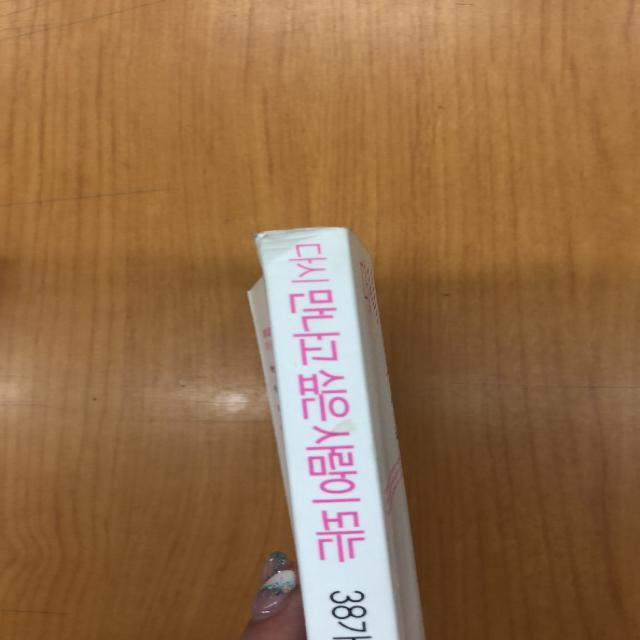Wornout: (240, 217, 274, 254)
